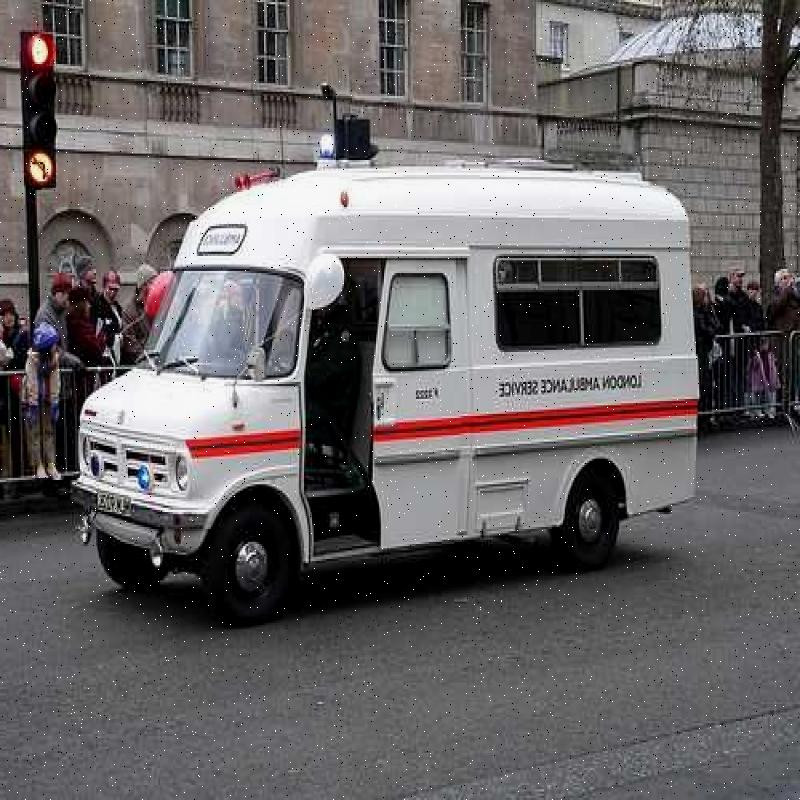ambulance: (67, 141, 704, 598)
